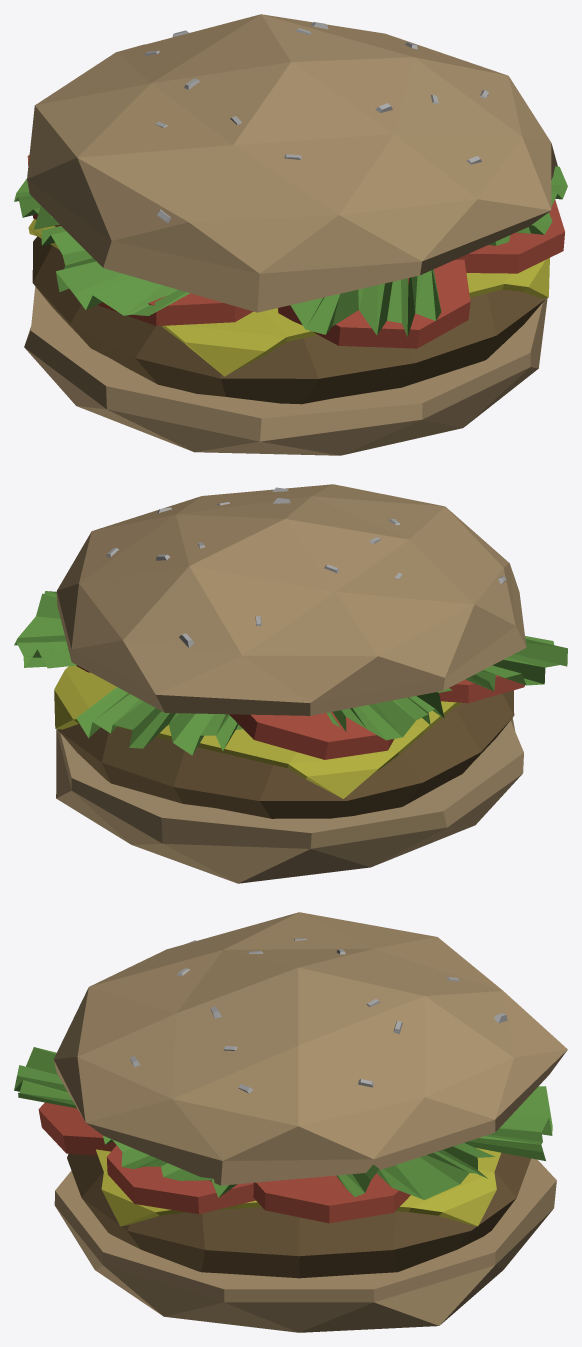
The model's file is Burger.glb.
3 renders of one model, top to bottom at view 1: azimuth 30°, elevation 25°; view 2: azimuth 150°, elevation 25°; view 3: azimuth 270°, elevation 25°, orthographic. The views are drawn at different scales.
Visible parts, largest first — view 1: Burger; view 2: Burger; view 3: Burger.
Part boxes in pixels (x1,y1,x2,y2): Burger: [14, 14, 567, 455]; Burger: [14, 484, 567, 883]; Burger: [14, 912, 567, 1332].
Bounding box in the file's own units: 0.2478 × 0.1598 × 0.255.
